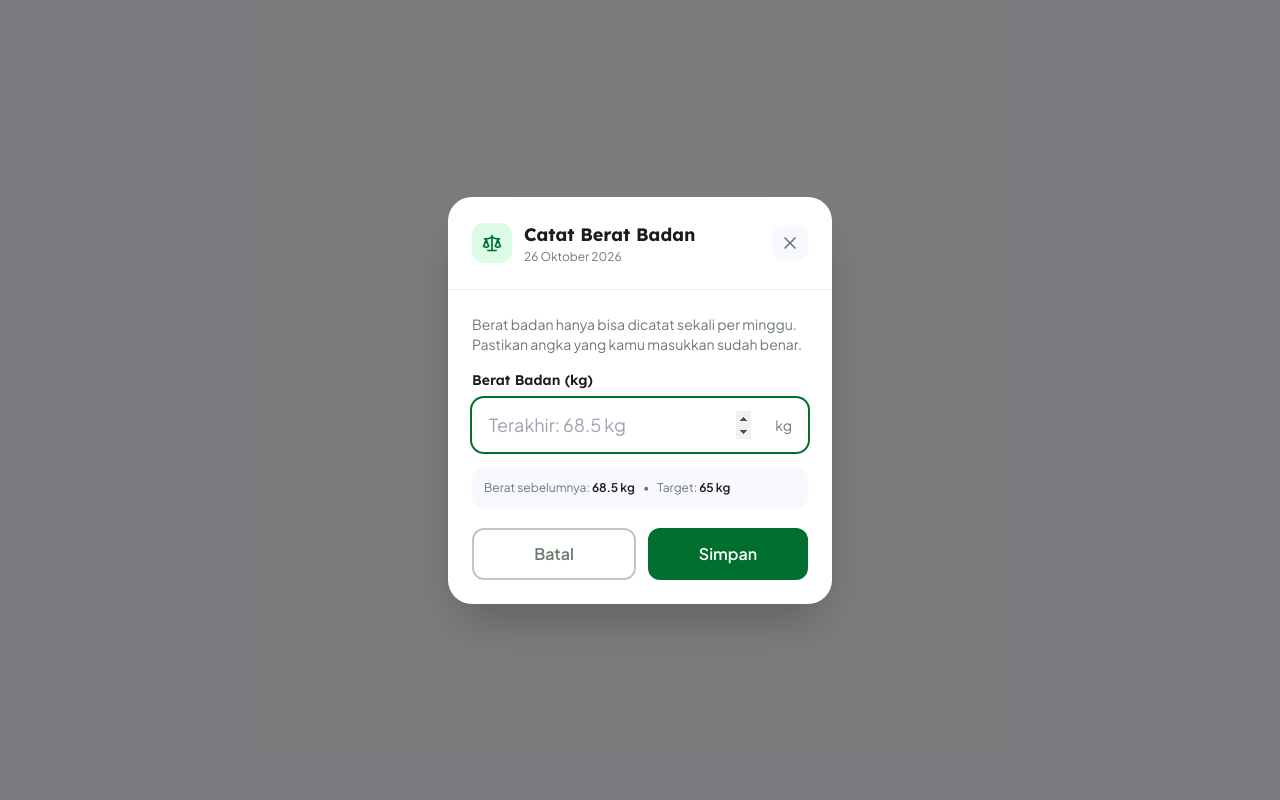
Test case: WeightInputModal Component › error hilang saat user mengetik ulang
The image size is (1280, 800).
Click the button with test id "btn-simpan-berat" at (728, 554), box [648,528,808,580]
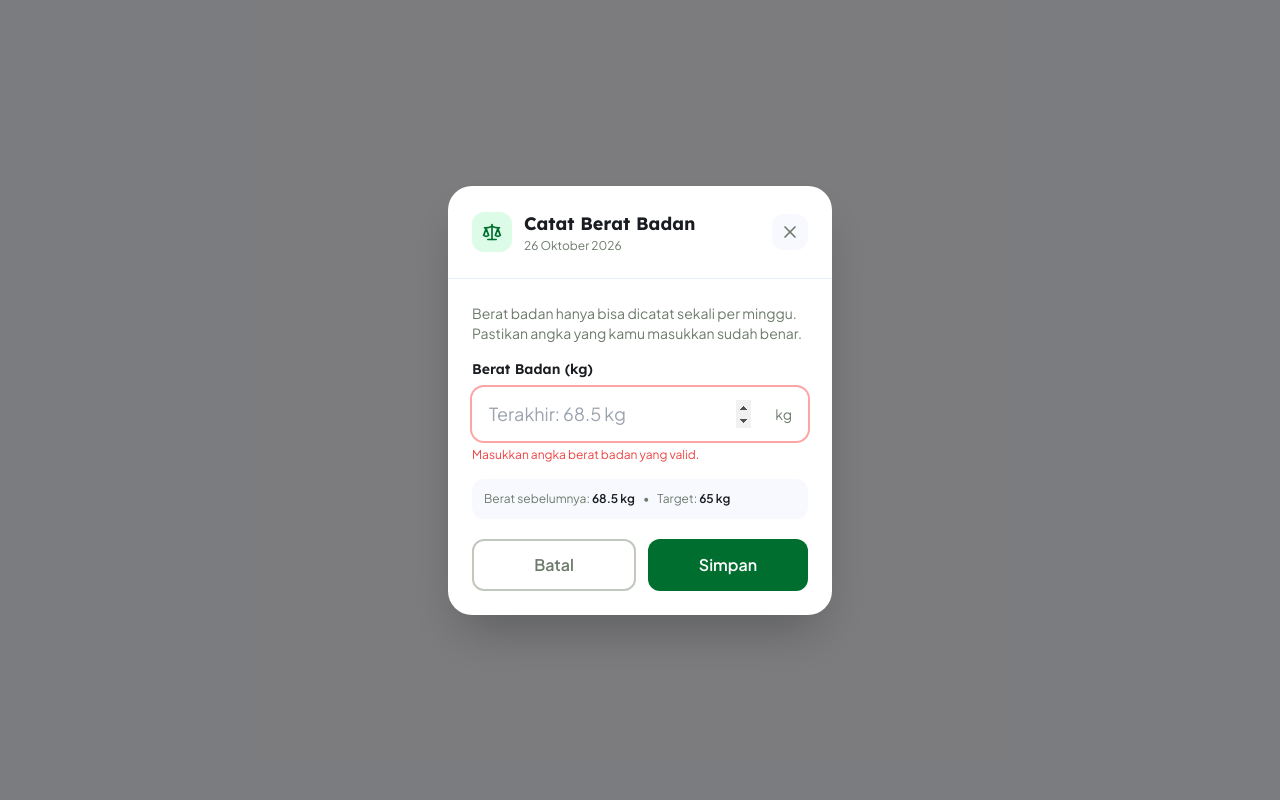
Expected: the text "Masukkan angka berat badan yang valid." is shown, [472,446,699,462]
Type "65" into the number field with test id "input-berat" at (640, 414), box [472,386,808,440]
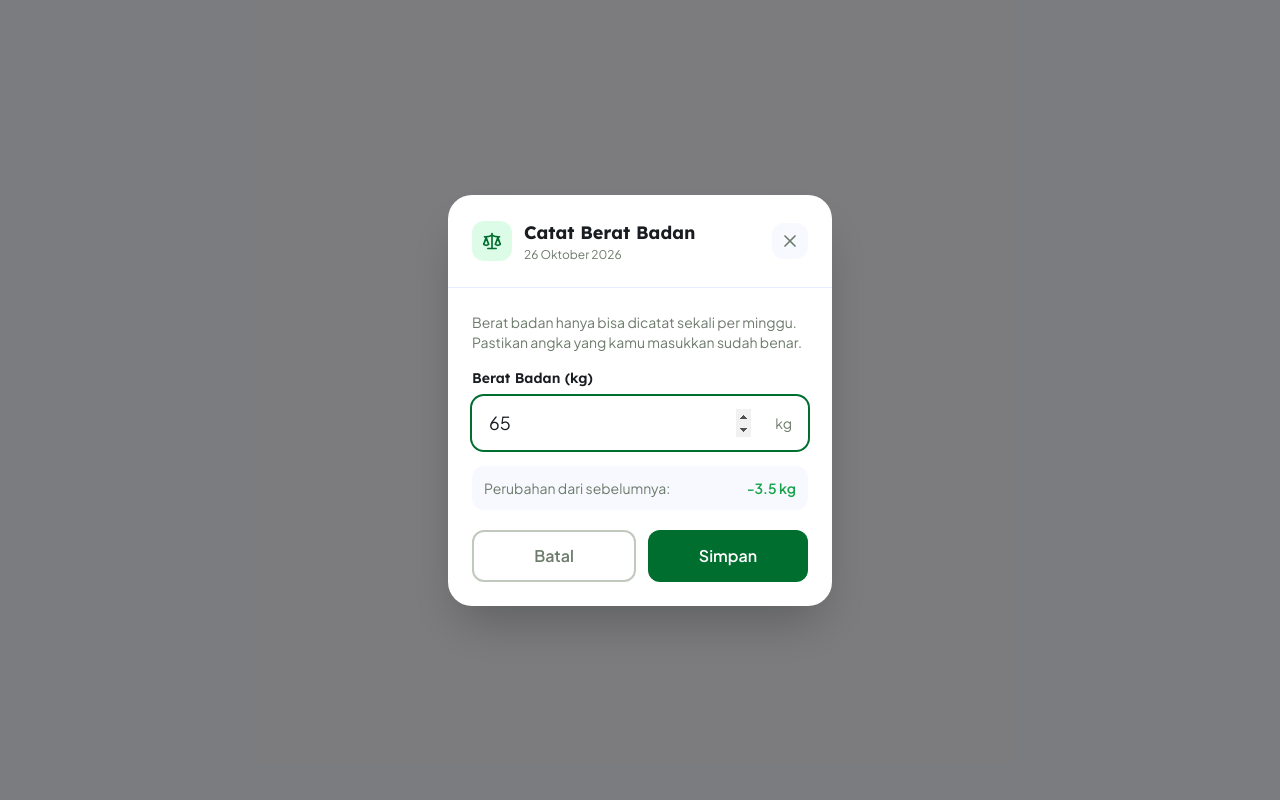
Expected: the text "Masukkan angka berat badan yang valid" is gone
